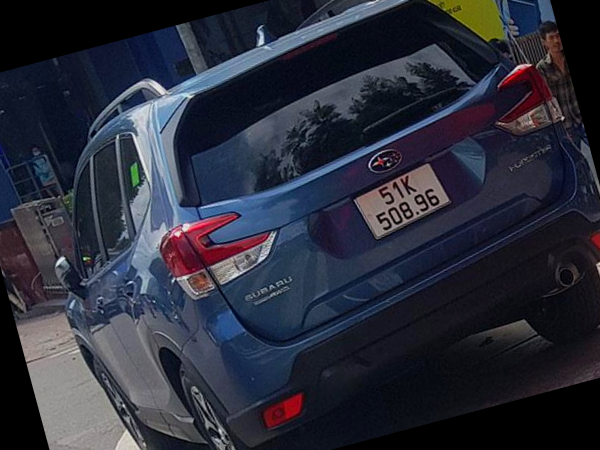lisence: (354, 162, 453, 241)
